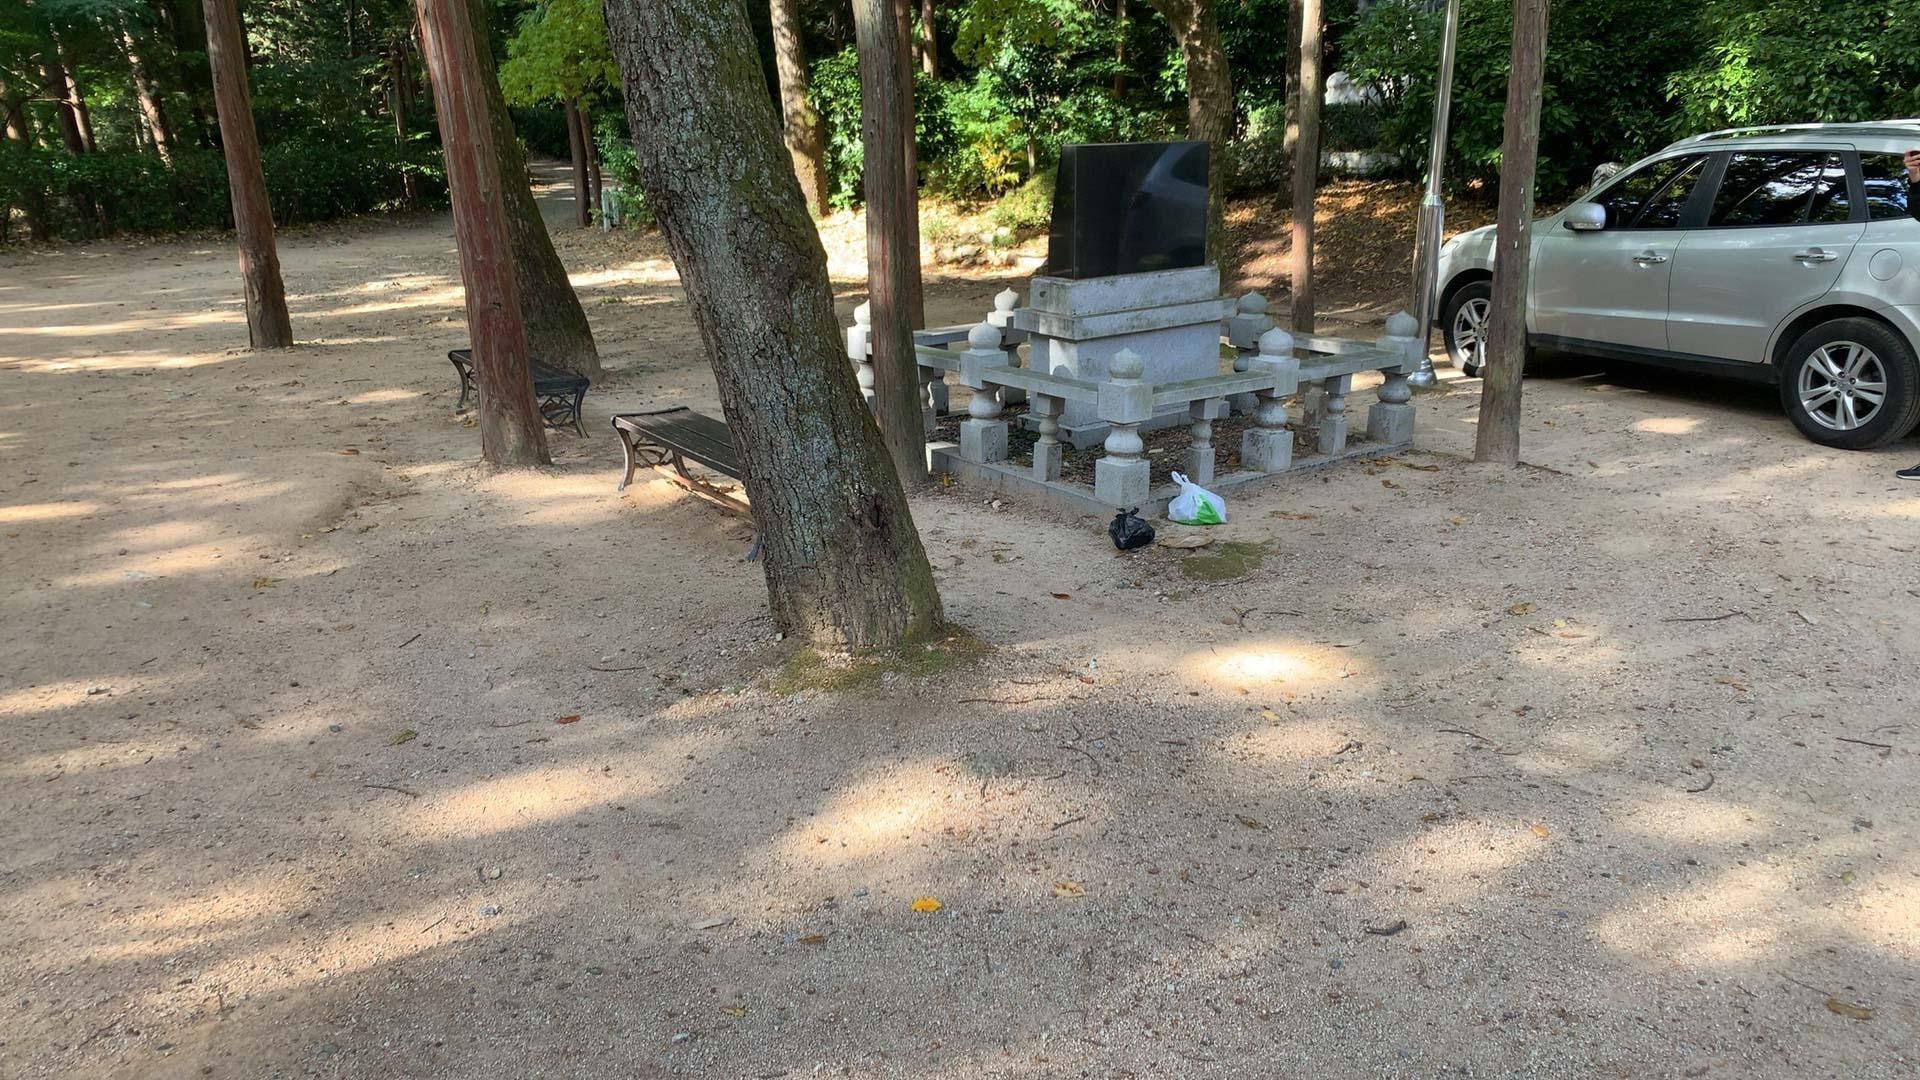black_bag: (1101, 503, 1158, 554)
white_bag: (1160, 466, 1234, 530)
